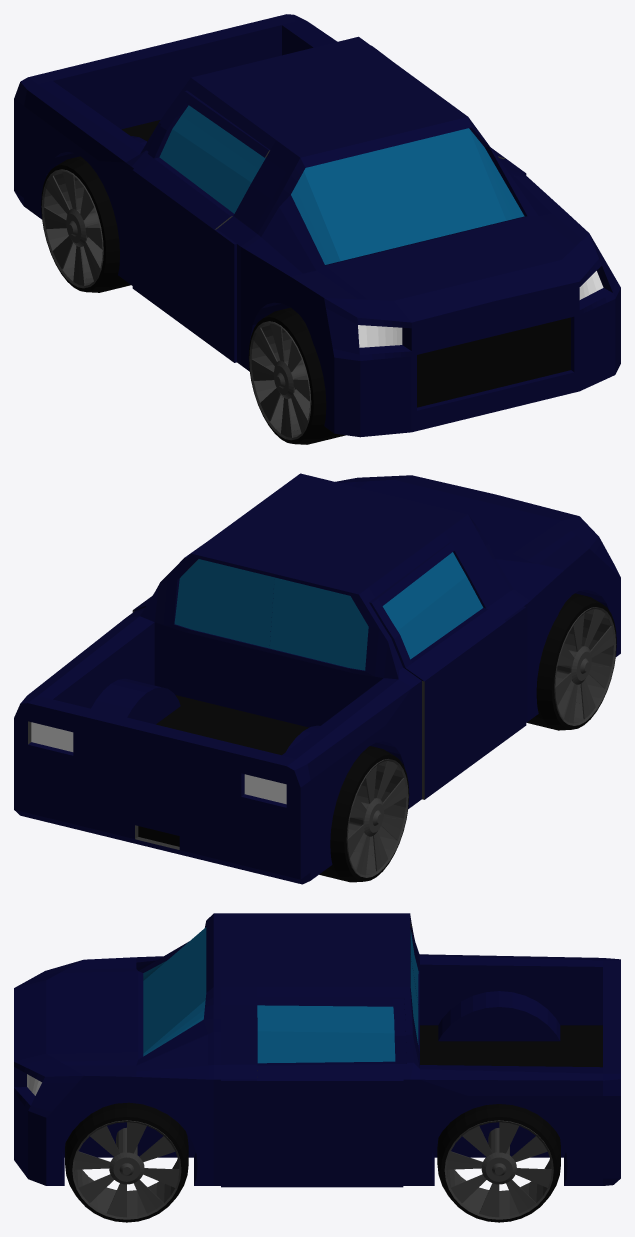
File: auto 1.fbx
3 renders of one model, top to bottom at view 1: azimuth 30°, elevation 25°; view 2: azimuth 150°, elevation 25°; view 3: azimuth 270°, elevation 25°, orthographic. The views are drawn at different scales.
Visible parts, largest first — view 1: Cube; view 2: Cube; view 3: Cube.
Part boxes in pixels (<box>): Cube: <box>14,14,620,444</box>; Cube: <box>14,473,620,884</box>; Cube: <box>14,913,620,1222</box>.
Bounding box in the file's own units: 311 × 225 × 590.
